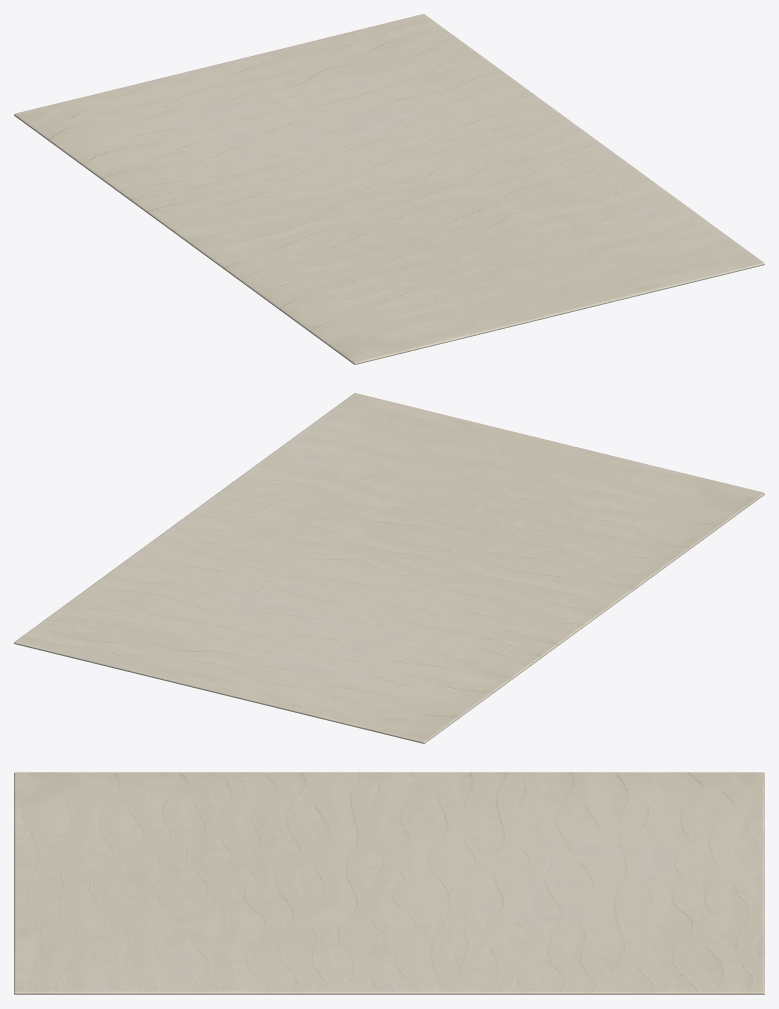
File: 30 - VÄXELFEL Rug, low pile - off-white 200x300 cm.glb
3 views of the same model, one above another, from view 1: azimuth 30°, elevation 25°; view 2: azimuth 150°, elevation 25°; view 3: azimuth 270°, elevation 25° (orthographic). The views are drawn at different scales.
Visible parts, largest first — view 1: Rectangle002; view 2: Rectangle002; view 3: Rectangle002.
Part boxes in pixels (x1,y1,x2,y2): Rectangle002: [14, 14, 764, 364]; Rectangle002: [14, 393, 764, 743]; Rectangle002: [14, 772, 764, 994].
Size of the model in its own units: 1.6 by 0.00786 by 2.3.
1 material, 1 textured.
